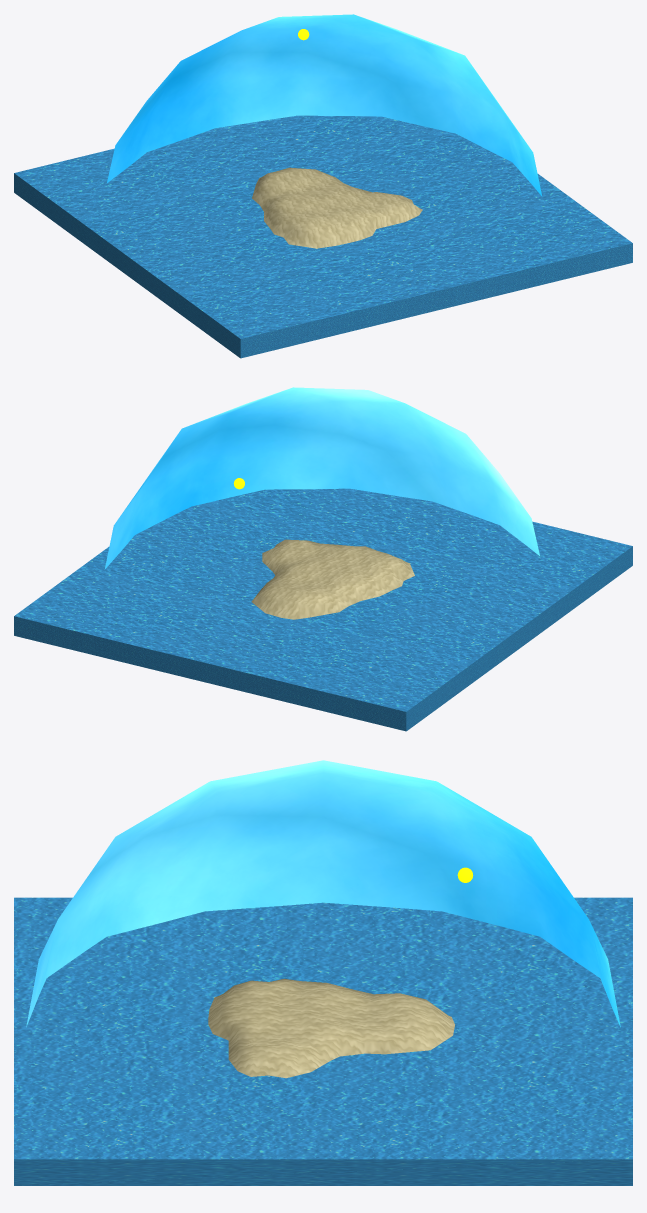
Rendered from island.gltf.
The picture shows the model from 3 angles, top to bottom: view 1: azimuth 30°, elevation 25°; view 2: azimuth 150°, elevation 25°; view 3: azimuth 270°, elevation 25°; orthographic projection. The views are drawn at different scales.
Parts seen in each view (by area): view 1: Box001, Box002, Plane001; view 2: Box001, Box002, Plane001; view 3: Box001, Box002, Plane001.
Boxes of the visible parts, box(x1,y1,x2,y2) form: Box001: box(14, 115, 632, 358); Box002: box(107, 14, 542, 196); Plane001: box(252, 167, 422, 248); Box001: box(14, 488, 632, 731); Box002: box(104, 387, 539, 569); Plane001: box(251, 539, 414, 619); Box001: box(14, 897, 632, 1185); Box002: box(26, 760, 620, 1027); Plane001: box(208, 978, 454, 1078).
Size of what is drawn, in the model's own units: 80 by 39.44 by 80.
Materials: 4 (3 with a texture image).
